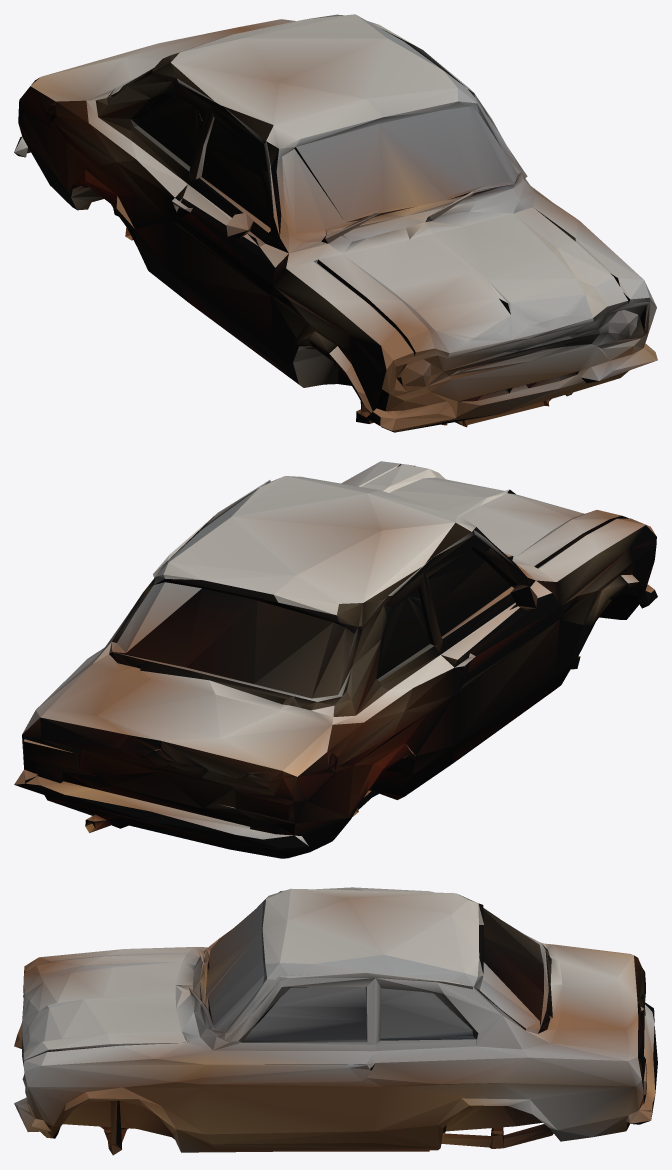
Rendered from ford_escort_rs1600.glb.
The picture shows the model from 3 angles, top to bottom: view 1: azimuth 30°, elevation 25°; view 2: azimuth 150°, elevation 25°; view 3: azimuth 270°, elevation 25°; orthographic projection. The views are drawn at different scales.
Visible parts, largest first — view 1: Wreck_ford_escort_rs1600; view 2: Wreck_ford_escort_rs1600; view 3: Wreck_ford_escort_rs1600.
Part boxes in pixels (bbox=[...]): Wreck_ford_escort_rs1600: bbox=[14, 14, 657, 432]; Wreck_ford_escort_rs1600: bbox=[14, 461, 657, 858]; Wreck_ford_escort_rs1600: bbox=[14, 887, 657, 1155].
Size of the model in its own units: 1.85 by 1.36 by 4.01.
